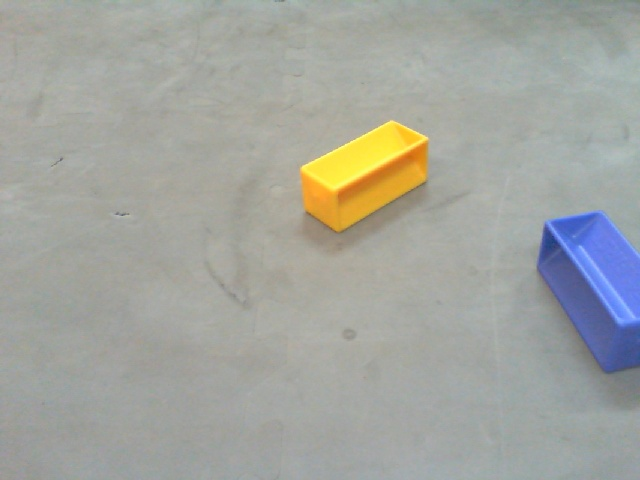BlueSample: (534, 207, 640, 376)
YellowSample: (296, 116, 434, 236)
